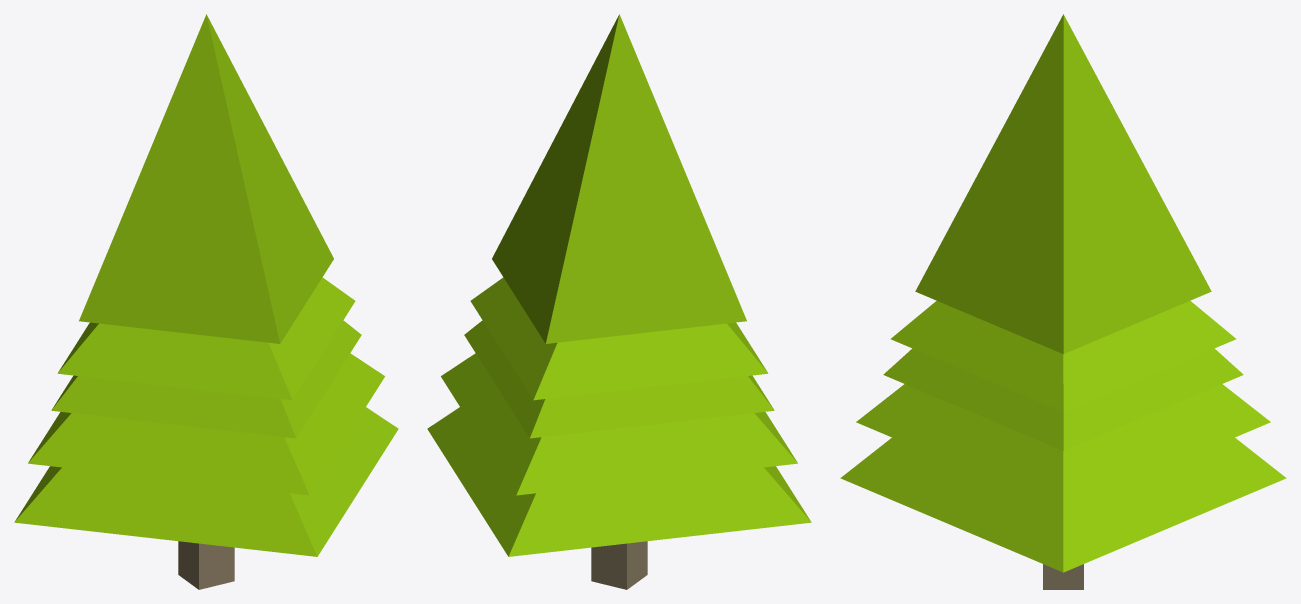
File: pine_11.fbx
The picture shows the model from 3 angles, left to right: view 1: azimuth 30°, elevation 25°; view 2: azimuth 150°, elevation 25°; view 3: azimuth 270°, elevation 25°; orthographic projection.
Visible parts, largest first — view 1: pine_11; view 2: pine_11; view 3: pine_11.
Part boxes in pixels (x1,y1,x2,y2): pine_11: (14,14,398,589); pine_11: (427,14,811,589); pine_11: (840,14,1286,589).
Bounding box in the file's own units: 131 × 183 × 131.
